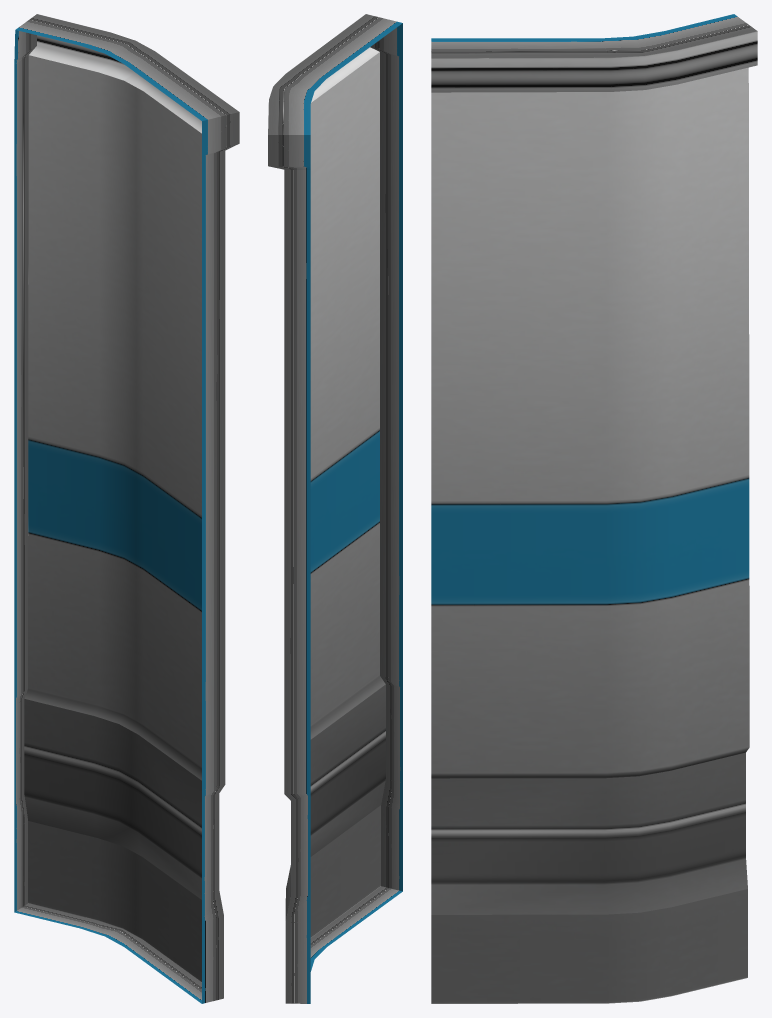
Rendered from XOB_LOT_BB.fbx.
The picture shows the model from 3 angles, left to right: view 1: azimuth 30°, elevation 25°; view 2: azimuth 150°, elevation 25°; view 3: azimuth 270°, elevation 25°; orthographic projection. The views are drawn at different scales.
Visible parts, largest first — view 1: XOB_LOT_BB; view 2: XOB_LOT_BB; view 3: XOB_LOT_BB.
Part boxes in pixels (left/top/right/bottom): XOB_LOT_BB: left=14, top=14, right=239, bottom=1003; XOB_LOT_BB: left=268, top=14, right=402, bottom=1003; XOB_LOT_BB: left=431, top=14, right=757, bottom=1003.
Size of the model in its own units: 0.451 by 4.5 by 1.4.
